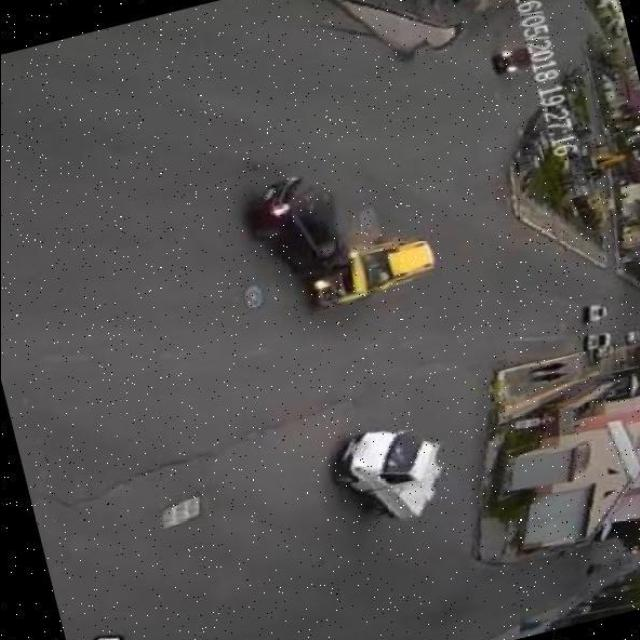accident: (236, 135, 446, 324)
